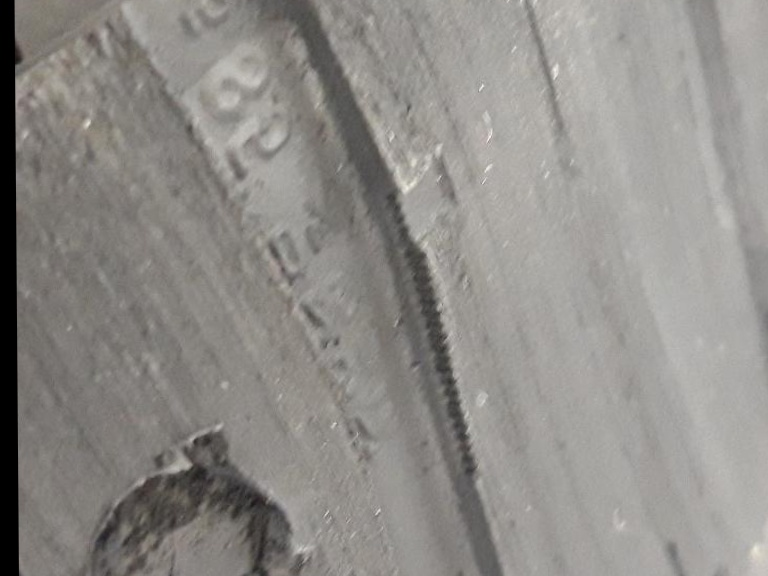temoin:0: (371, 139, 477, 271)
